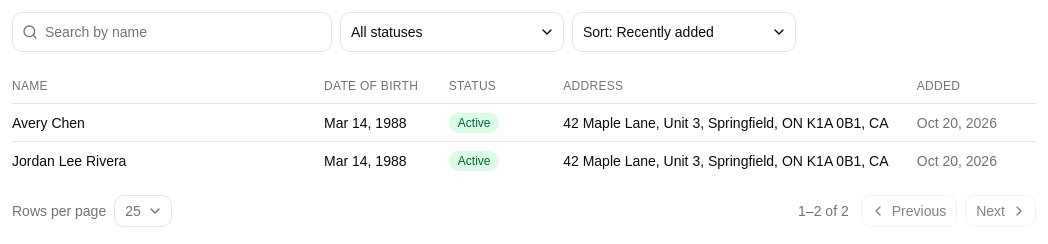
it: PatientDirectory › name search › waits for Enter before searching, offering a Search button for the typed text
This screenshot has width=1048, height=244.
Type "riv" into the search field named "Search patients by name" at (172, 32), box [12,12,332,52]
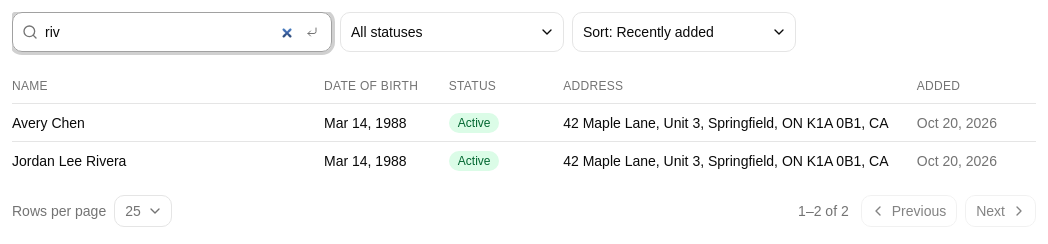
Now the button named "Search" is shown, box [300,20,324,44]
